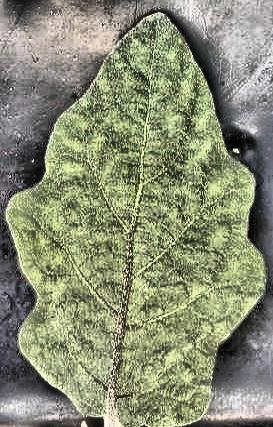HEALTHY: (0, 1, 273, 427)
